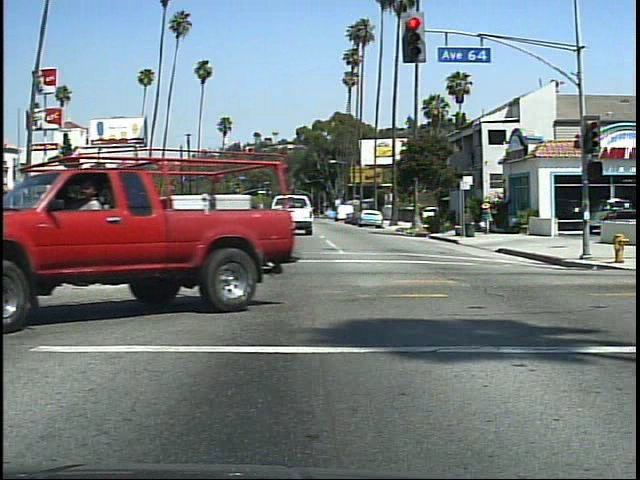person: (82, 175, 124, 310), (477, 199, 500, 238)
